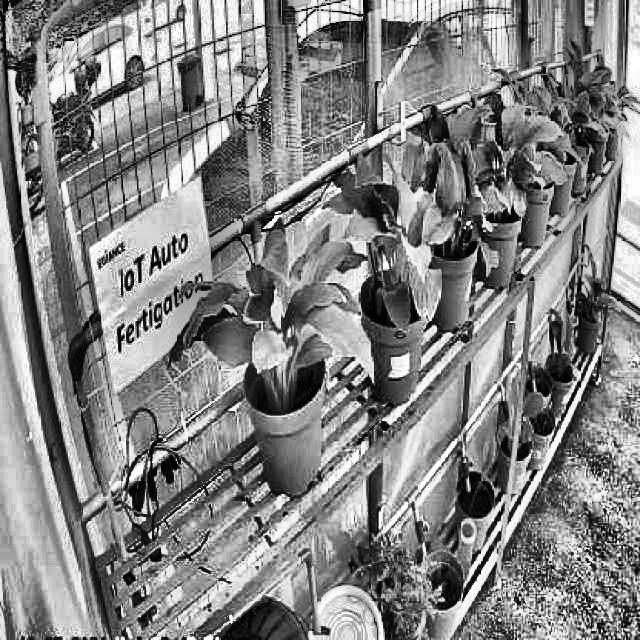plants: (168, 220, 374, 403), (322, 157, 440, 340), (400, 101, 502, 277), (476, 94, 570, 211)
